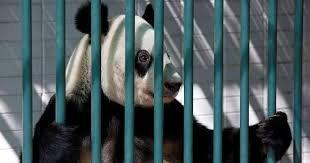bear: (32, 0, 293, 163)
